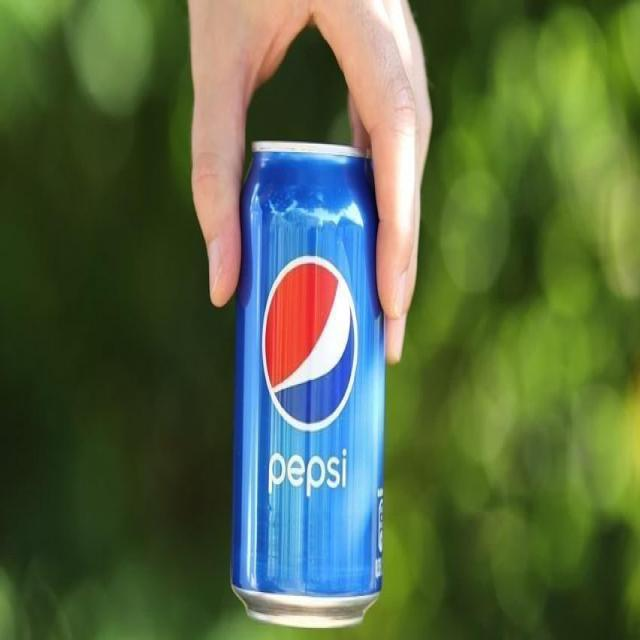tin can: (230, 137, 388, 627)
